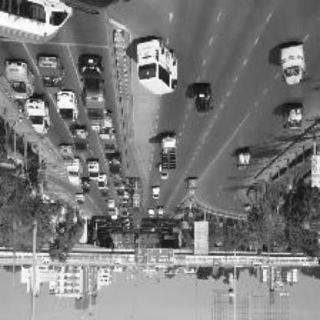other: (3, 54, 45, 103)
